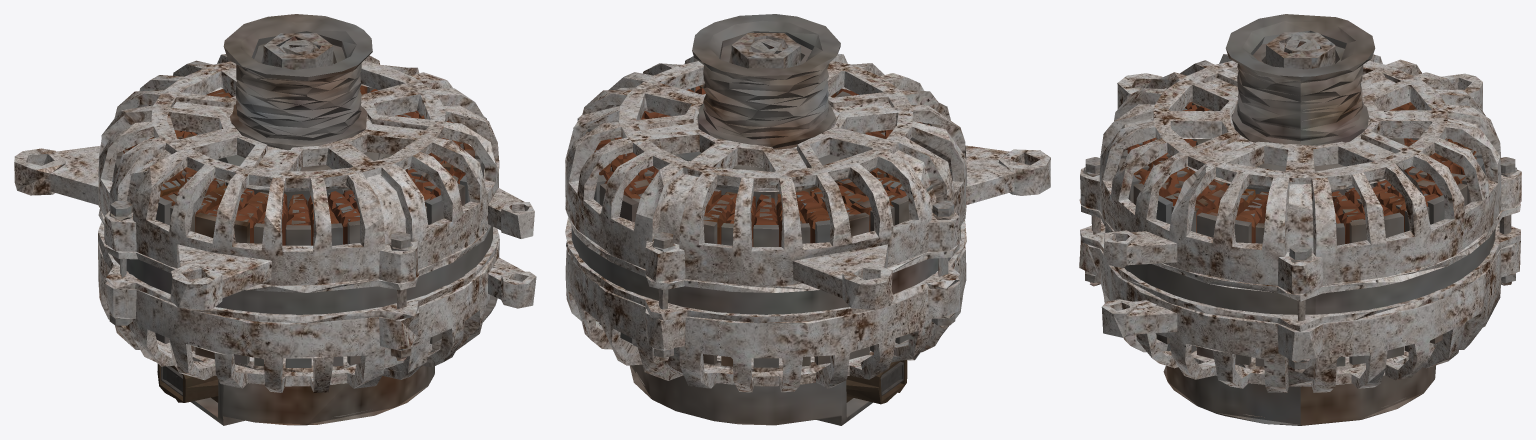
Rendered from item_alternator.glb.
3 renders of one model, left to right at view 1: azimuth 30°, elevation 25°; view 2: azimuth 150°, elevation 25°; view 3: azimuth 270°, elevation 25°, orthographic.
Visible parts, largest first — view 1: item_alternator; view 2: item_alternator; view 3: item_alternator.
Part boxes in pixels (box(x1,y1,x2,y2)): item_alternator: box(14, 14, 536, 425); item_alternator: box(565, 14, 1050, 425); item_alternator: box(1079, 14, 1521, 425).
Bounding box in the file's own units: 0.305 × 0.2463 × 0.2958.
Materials: 6 (6 with a texture image).
